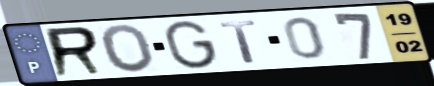0: (280, 14, 332, 62)
7: (330, 11, 375, 61)
G: (162, 19, 220, 71)
O: (98, 23, 158, 75)
R: (43, 25, 108, 80)
T: (216, 18, 261, 65)
